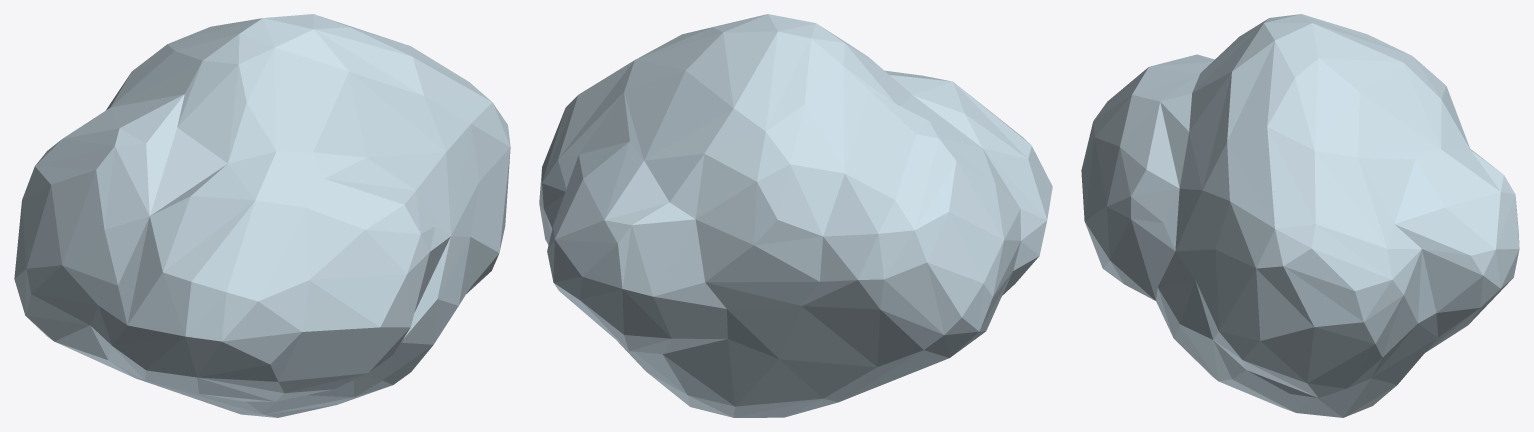
File: Cloud3.fbx
The picture shows the model from 3 angles, left to right: view 1: azimuth 30°, elevation 25°; view 2: azimuth 150°, elevation 25°; view 3: azimuth 270°, elevation 25°; orthographic projection. The views are drawn at different scales.
Visible parts, largest first — view 1: pPlatonic3; view 2: pPlatonic3; view 3: pPlatonic3.
Part boxes in pixels (x1=…): pPlatonic3: x1=14, y1=14, x2=510, y2=417; pPlatonic3: x1=539, y1=14, x2=1052, y2=417; pPlatonic3: x1=1081, y1=14, x2=1519, y2=417.
Bounding box in the file's own units: 2.69 × 2.25 × 2.41.
